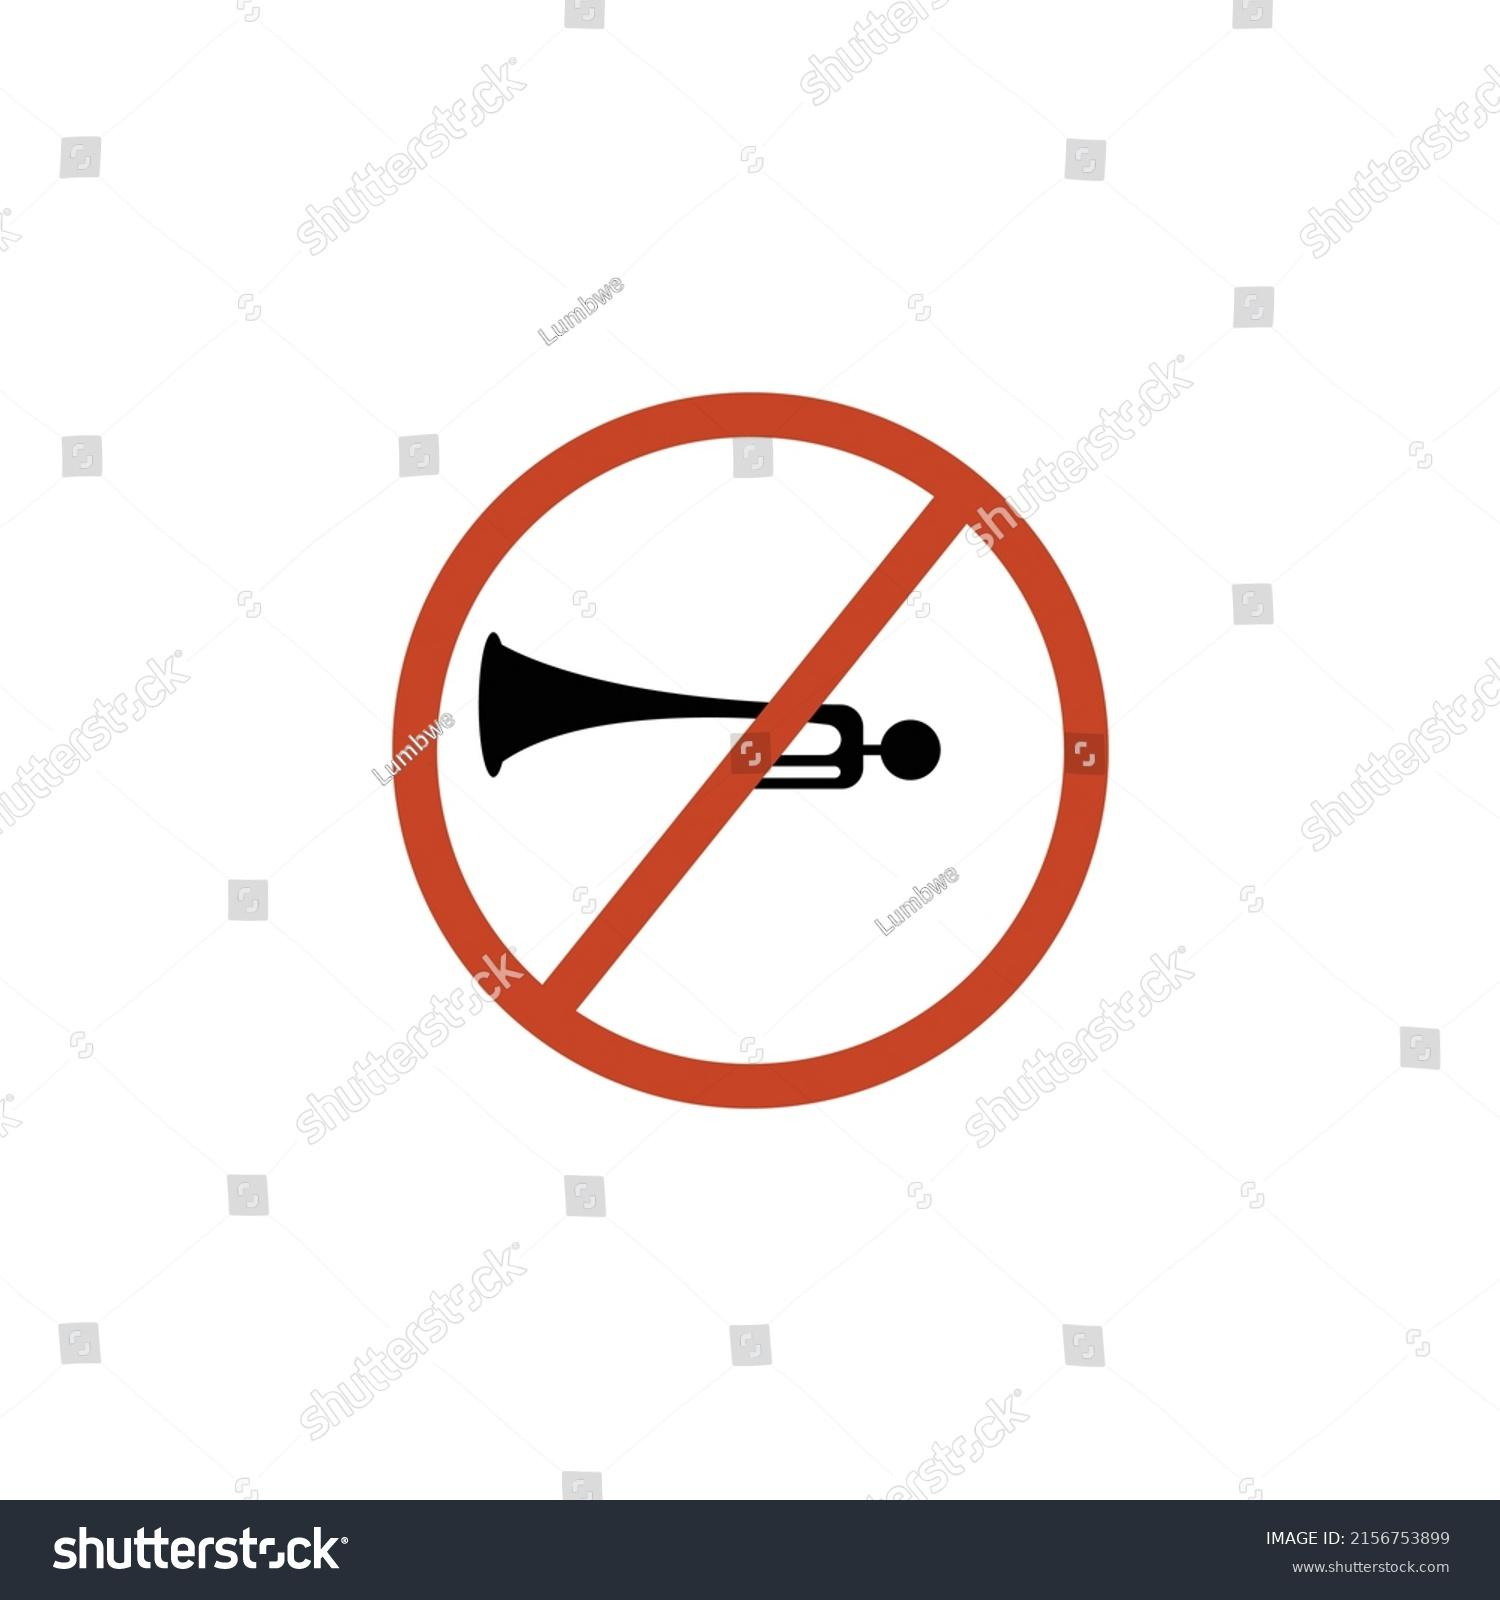Horn Prohibited: (347, 334, 1160, 1218)
